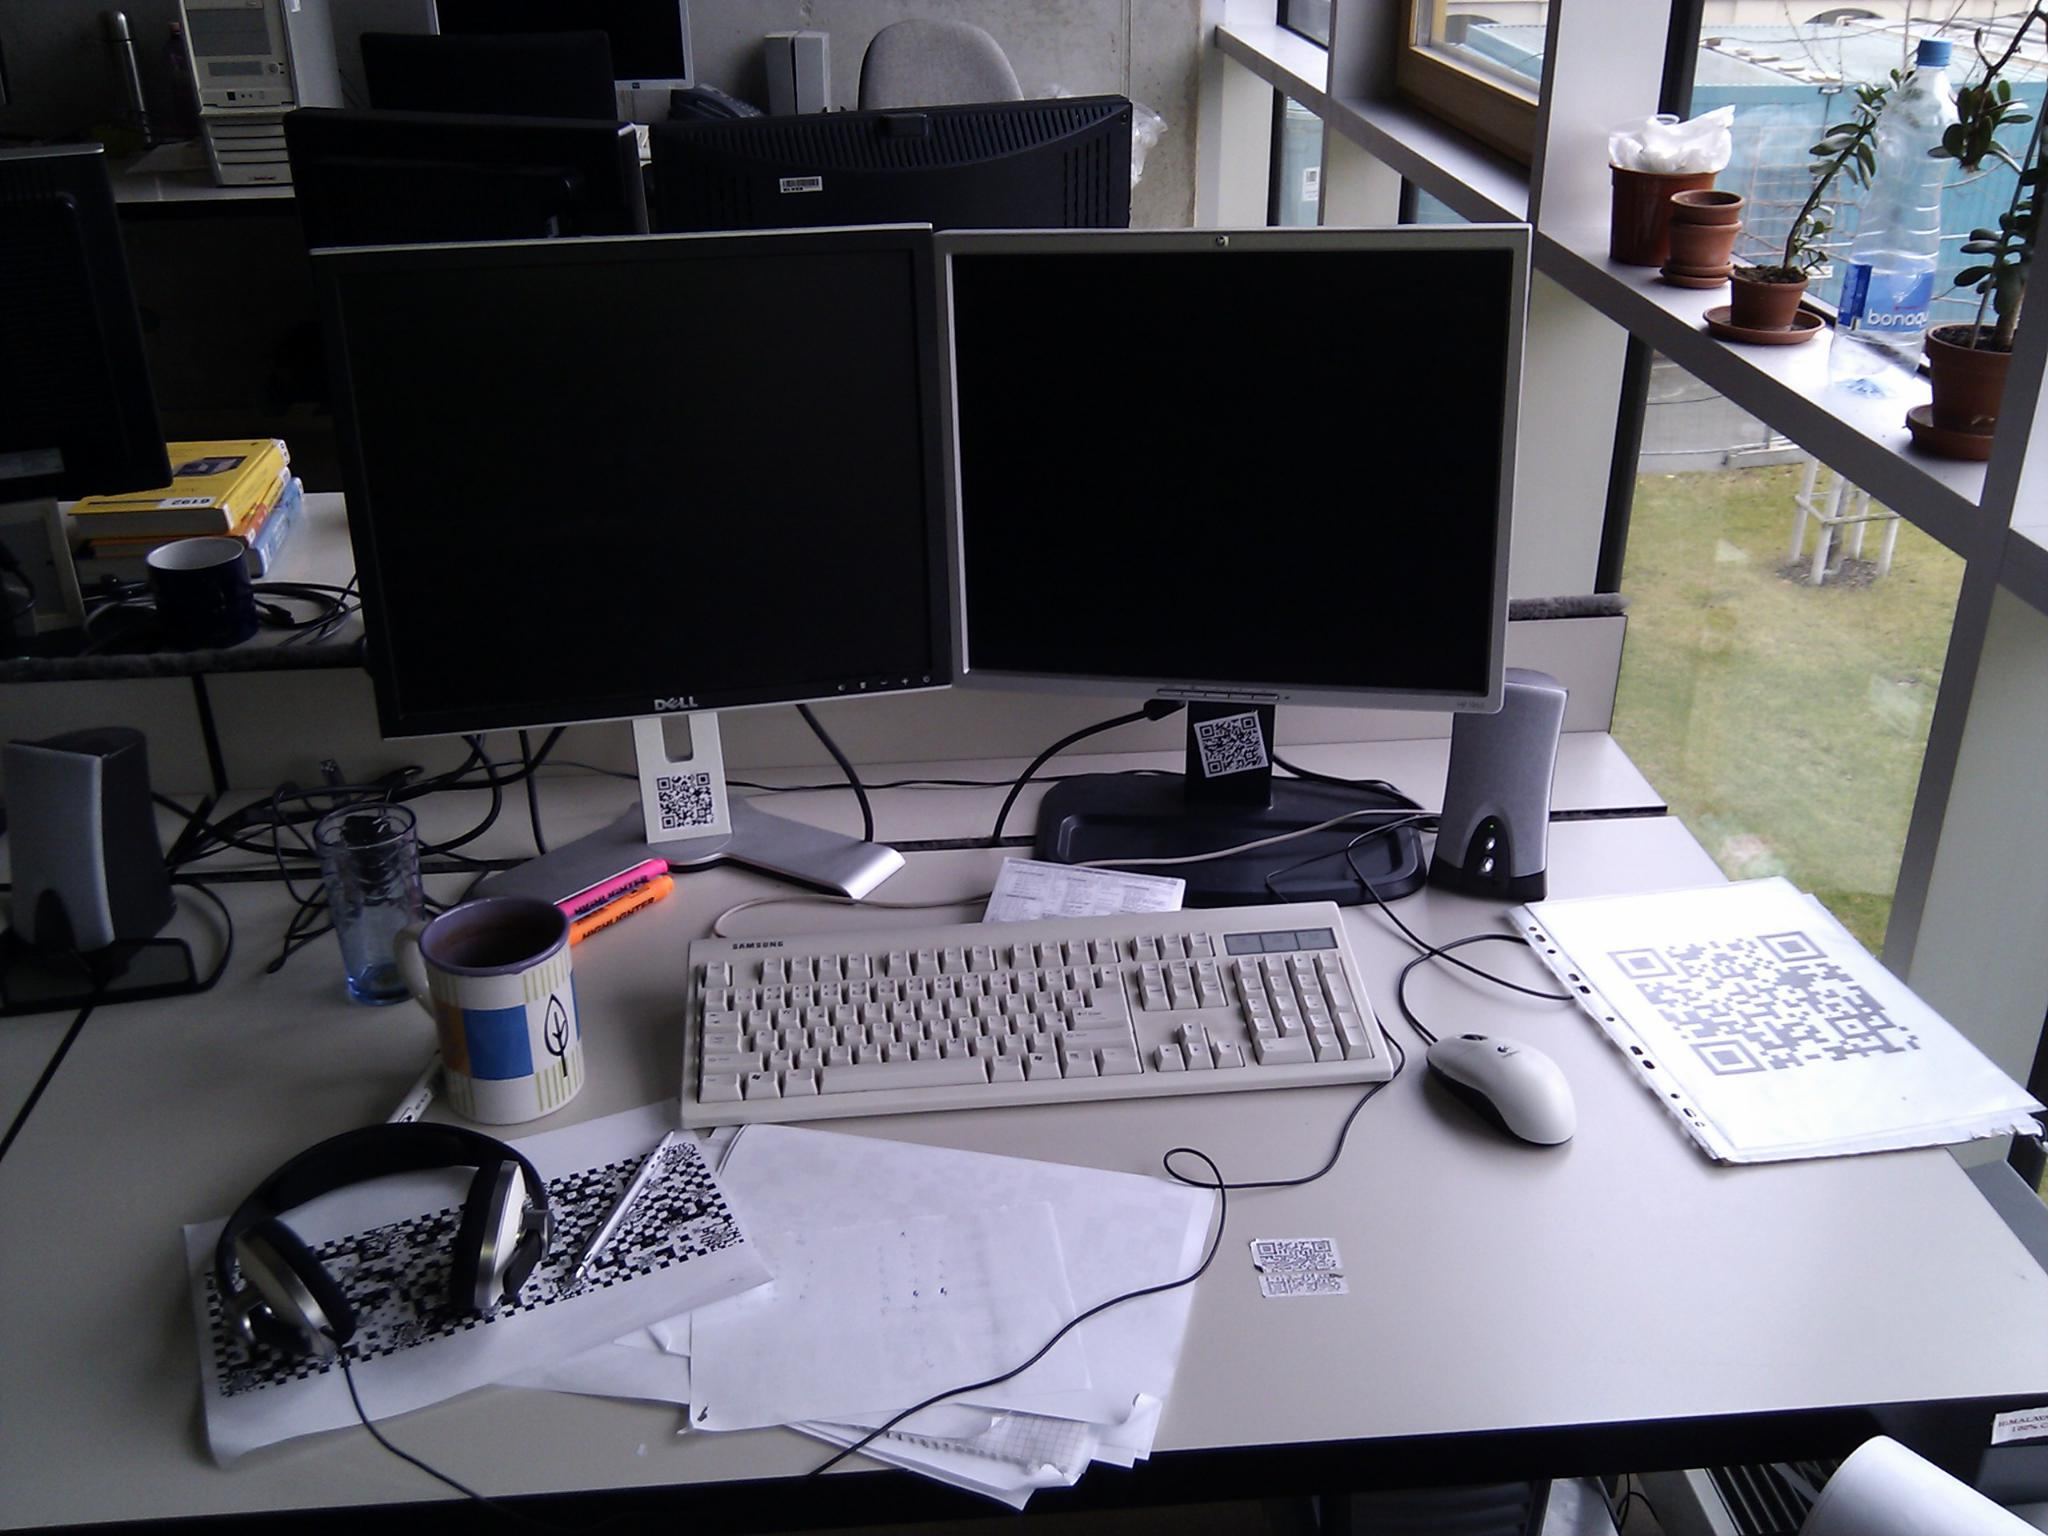Finder pattern: (1601, 937, 1680, 991), (1687, 1036, 1771, 1084), (1755, 921, 1822, 970), (1251, 1238, 1280, 1258), (1264, 1278, 1288, 1297), (1308, 1238, 1332, 1255), (693, 770, 714, 789), (1198, 721, 1218, 741), (1205, 757, 1224, 776), (1235, 715, 1259, 729), (655, 774, 672, 791)
